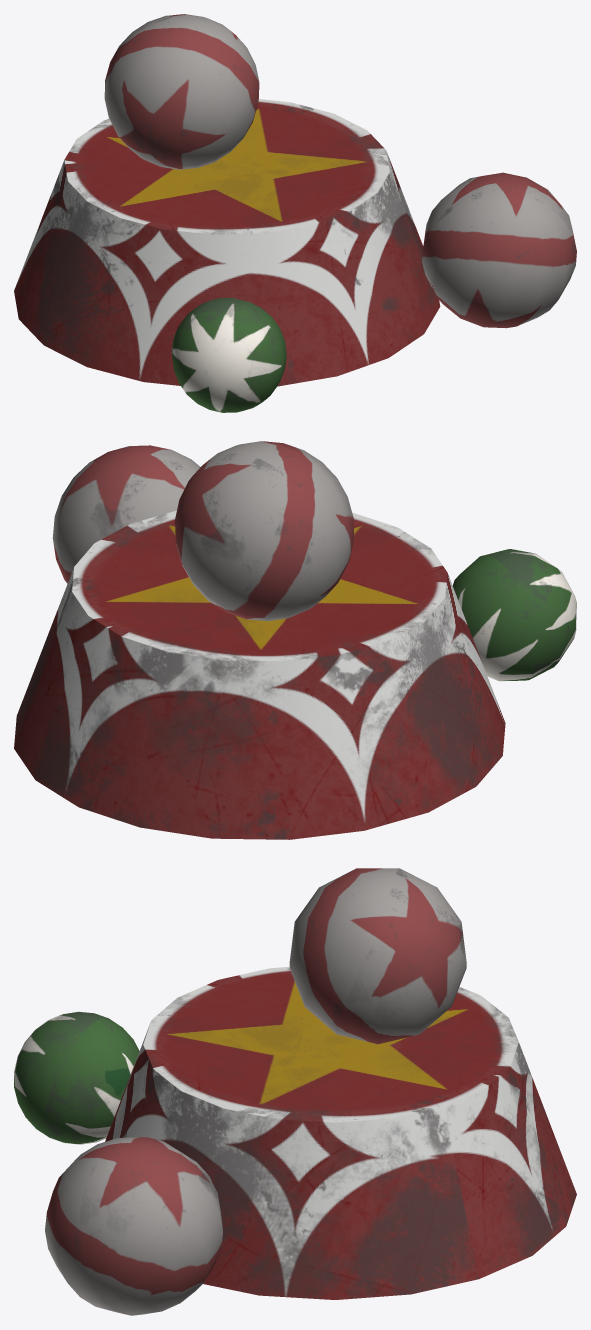
File: LVR_Props.fbx
3 renders of one model, top to bottom at view 1: azimuth 30°, elevation 25°; view 2: azimuth 150°, elevation 25°; view 3: azimuth 270°, elevation 25°, orthographic. The views are drawn at different scales.
Visible parts, largest first — view 1: CircusBall_model; view 2: CircusBall_model; view 3: CircusBall_model.
Part boxes in pixels (box(x1,y1,x2,y2)): CircusBall_model: box(14, 14, 576, 412); CircusBall_model: box(14, 441, 576, 839); CircusBall_model: box(14, 868, 576, 1315).
Size of the model in its own units: 105 by 62.12 by 101.
Materials: 1 (1 with a texture image).
